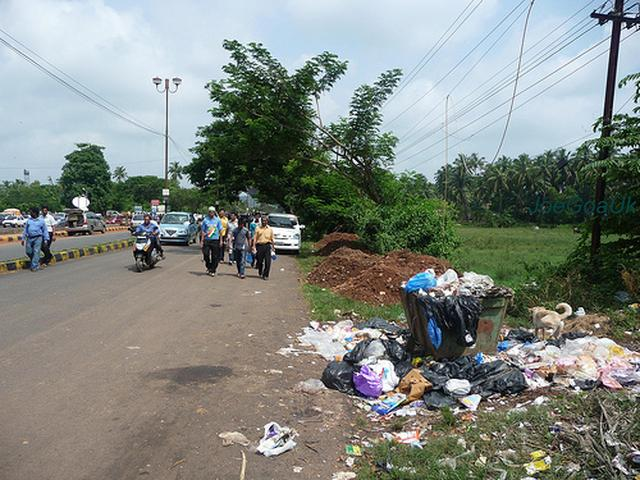garbage: (357, 353, 522, 401), (517, 340, 615, 392)
